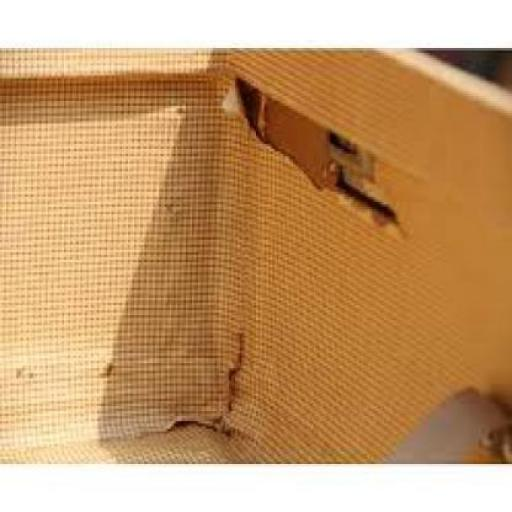cardboard: (0, 43, 511, 460)
